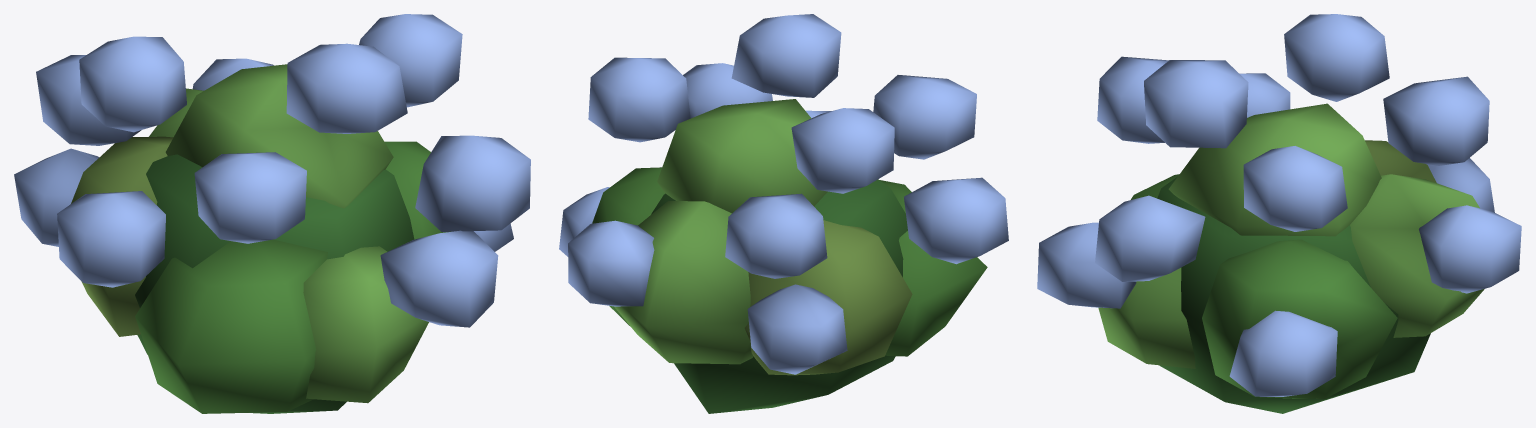
The model's file is hydrangea.far.glb.
3 renders of one model, left to right at view 1: azimuth 30°, elevation 25°; view 2: azimuth 150°, elevation 25°; view 3: azimuth 270°, elevation 25°, orthographic. The views are drawn at different scales.
Parts seen in each view (by area): view 1: hydrangea; view 2: hydrangea; view 3: hydrangea.
Part boxes in pixels (box(x1,y1,x2,y2)): hydrangea: box(14, 14, 530, 413); hydrangea: box(559, 14, 1008, 413); hydrangea: box(1037, 14, 1521, 413).
Size of the model in its own units: 1.15 by 0.9567 by 1.15.
